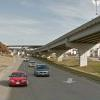Bridge: (28, 12, 100, 58)
